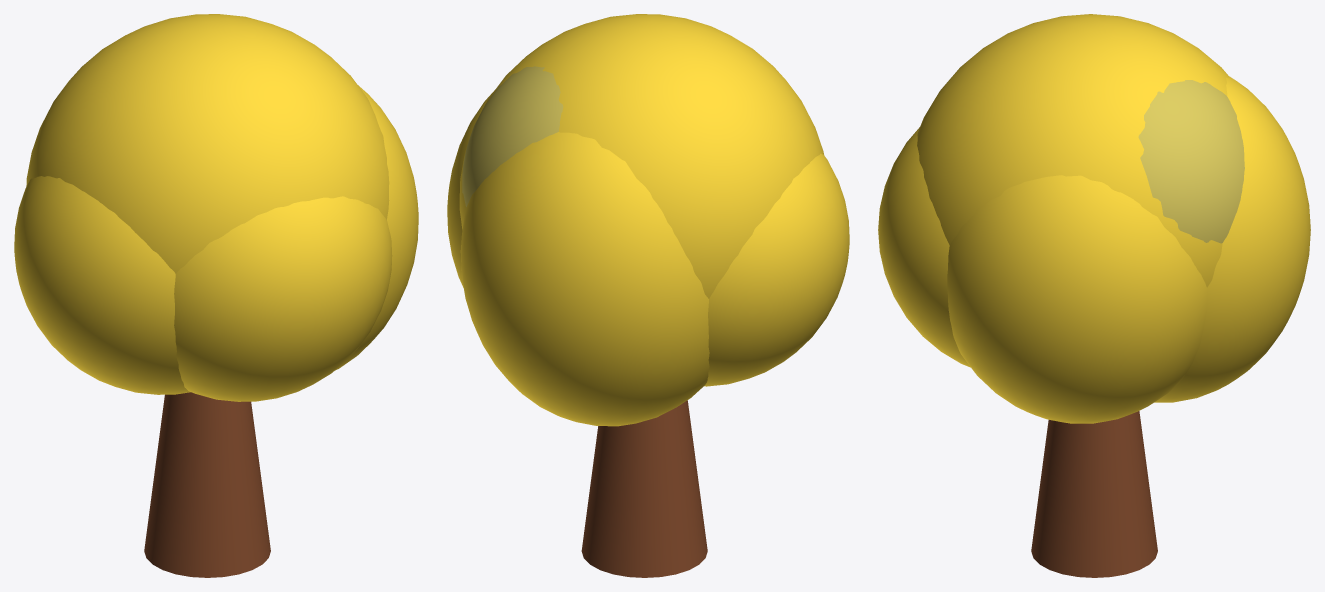
The model's file is JoyLv2.glb.
The picture shows the model from 3 angles, left to right: view 1: azimuth 30°, elevation 25°; view 2: azimuth 150°, elevation 25°; view 3: azimuth 270°, elevation 25°; orthographic projection.
Visible parts, largest first — view 1: GeoSphere072, GeoSphere074, GeoSphere076, Batang026, GeoSphere075; view 2: GeoSphere073, GeoSphere072, GeoSphere076, Batang026, GeoSphere077, GeoSphere075; view 3: GeoSphere075, GeoSphere072, GeoSphere073, Batang026, GeoSphere077, GeoSphere074.
Boxes of the visible parts, left/top/right/bottom form: GeoSphere072: left=26, top=14, right=389, bottom=273; GeoSphere074: left=174, top=196, right=392, bottom=401; GeoSphere076: left=14, top=176, right=190, bottom=394; Batang026: left=144, top=392, right=270, bottom=577; GeoSphere075: left=335, top=85, right=418, bottom=370; GeoSphere073: left=460, top=132, right=709, bottom=426; GeoSphere072: left=459, top=14, right=823, bottom=298; GeoSphere076: left=704, top=153, right=849, bottom=386; Batang026: left=581, top=400, right=707, bottom=577; GeoSphere077: left=462, top=66, right=563, bottom=206; GeoSphere075: left=447, top=90, right=494, bottom=287; GeoSphere075: left=947, top=175, right=1207, bottom=423; GeoSphere072: left=917, top=14, right=1229, bottom=287; GeoSphere073: left=1154, top=76, right=1310, bottom=402; Batang026: left=1031, top=411, right=1157, bottom=577; GeoSphere077: left=1138, top=80, right=1244, bottom=243; GeoSphere074: left=878, top=127, right=970, bottom=367.
Size of the model in its own units: 0.7521 by 1.03 by 0.772.
